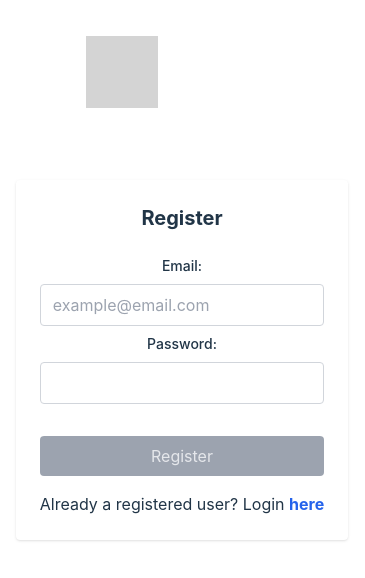
Test: RegisterLogin Component › Registration success/error › displays a prompt to complete CloudFlare Turnstile verification
Type "test@example.com" into the field labelled "Email:" at {"x": 182, "y": 305}, box [40,284,324,326]
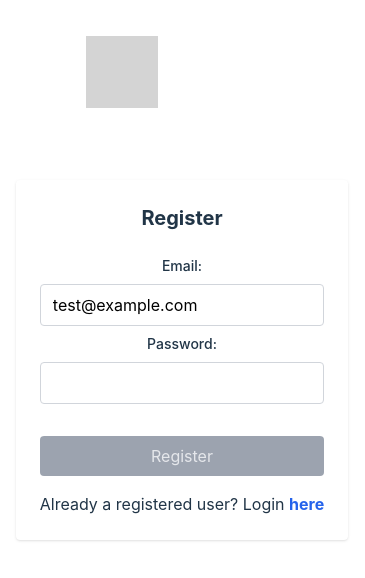
Type "password123" into the password field labelled "Password:" at {"x": 182, "y": 383}, box [40,362,324,404]
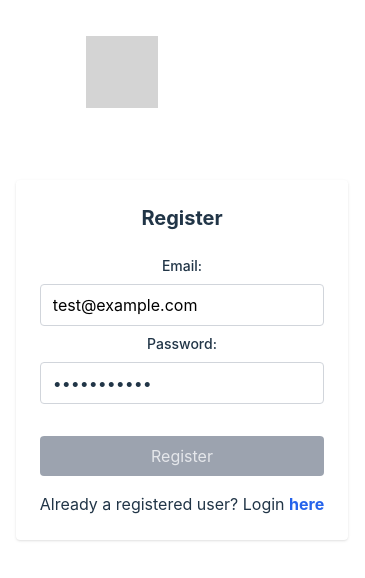
Click the button "Register" at {"x": 182, "y": 456}, box [40,436,324,476]
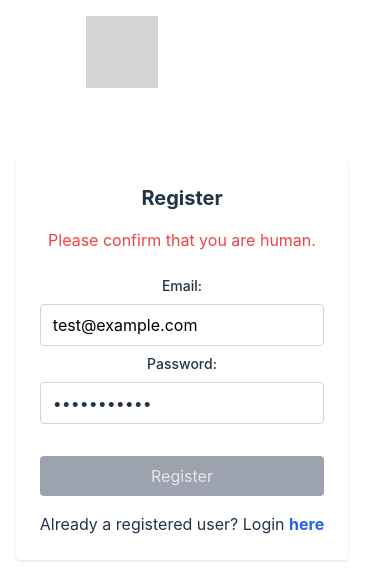
Expected: the text "Please confirm that you are human." is shown, [40,228,324,252]
